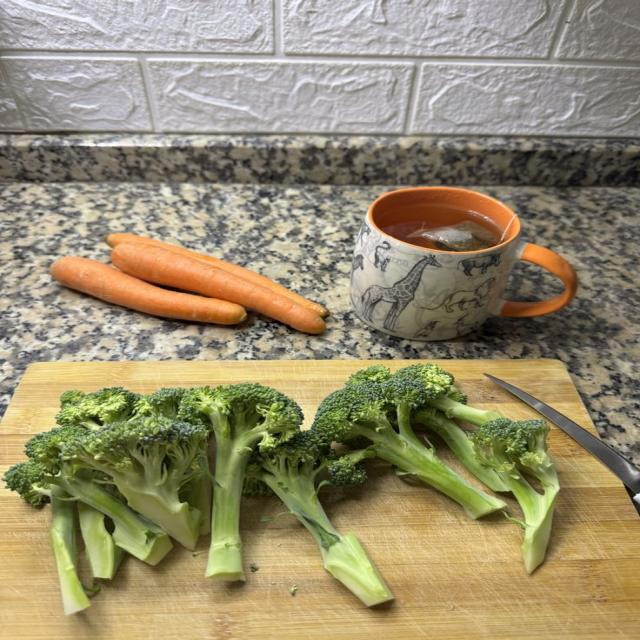broccoli: (313, 368, 506, 518), (246, 431, 393, 606), (181, 383, 302, 580), (5, 427, 172, 564), (61, 416, 207, 549), (470, 418, 559, 572), (4, 462, 90, 614), (413, 406, 509, 491), (394, 364, 501, 425), (77, 501, 125, 579), (56, 387, 140, 429), (181, 439, 212, 534)
carrot: (112, 242, 323, 333), (105, 233, 329, 316), (50, 257, 246, 324)
